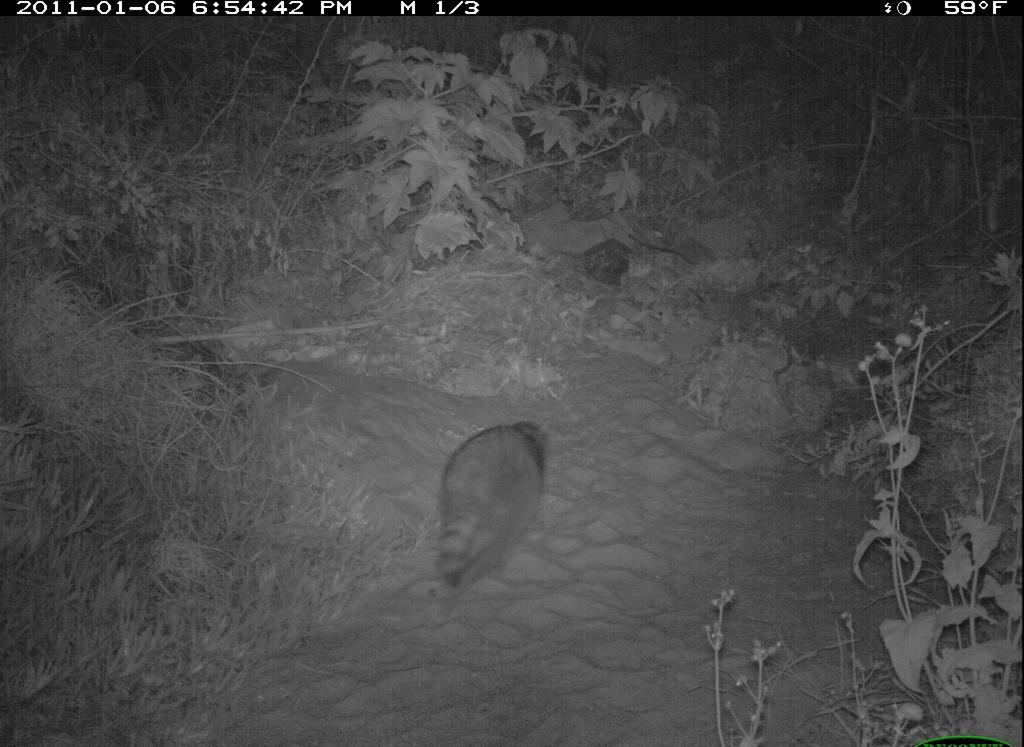raccoon: (428, 409, 561, 605)
